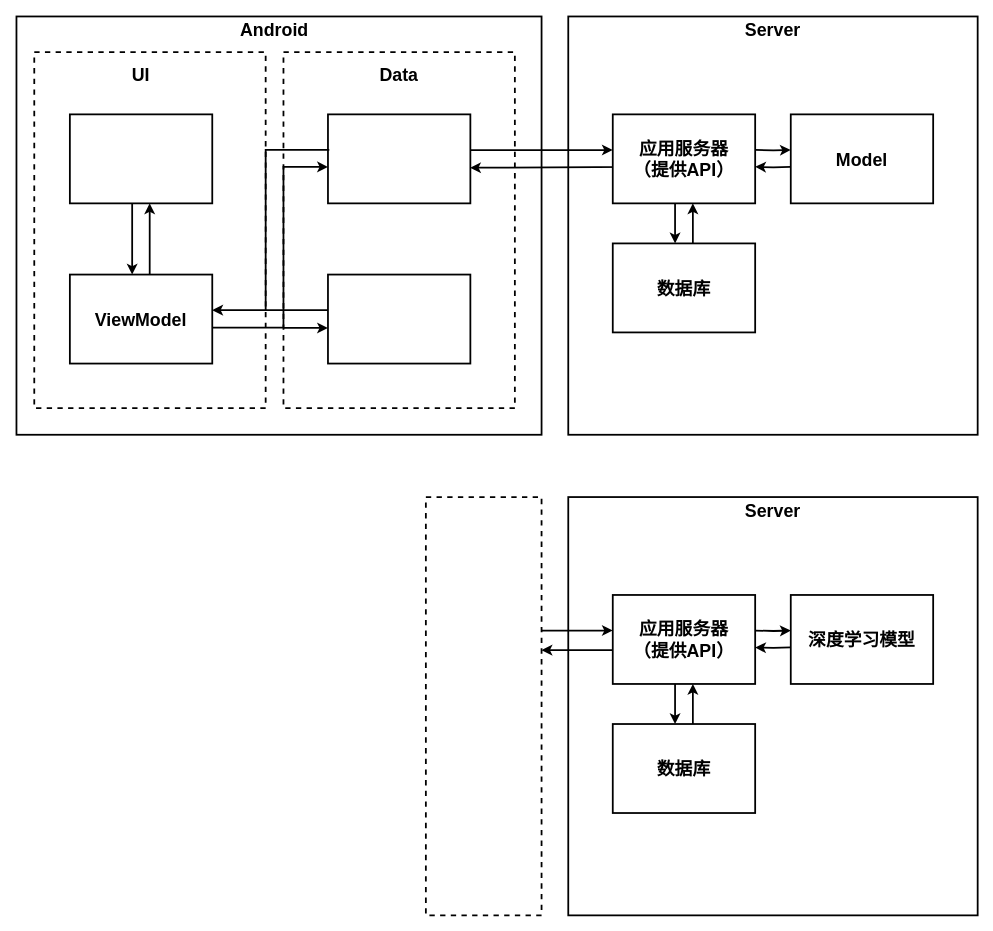
The diagram is 993 pixels wide and 931 high, and some of its shapes have lost their labels. Here are the shapes that lost their labels. From the top down, the box of each, then its label:
(69, 113, 213, 204): Compose
(327, 113, 471, 204): ApiService
(327, 273, 471, 364): DataStore
(425, 496, 542, 916): Client
